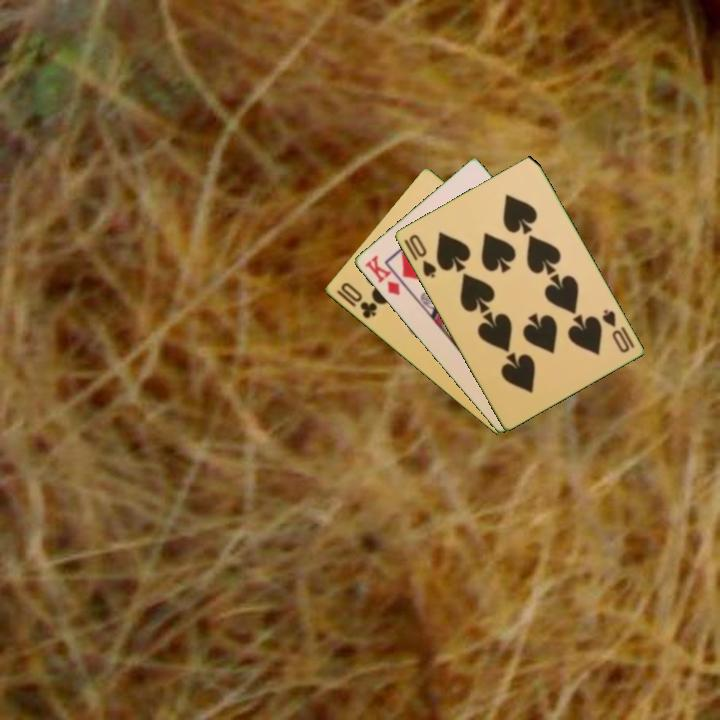10c: (332, 279, 380, 322)
10s: (598, 305, 637, 356), (405, 231, 439, 281)
Kd: (361, 252, 410, 298)
